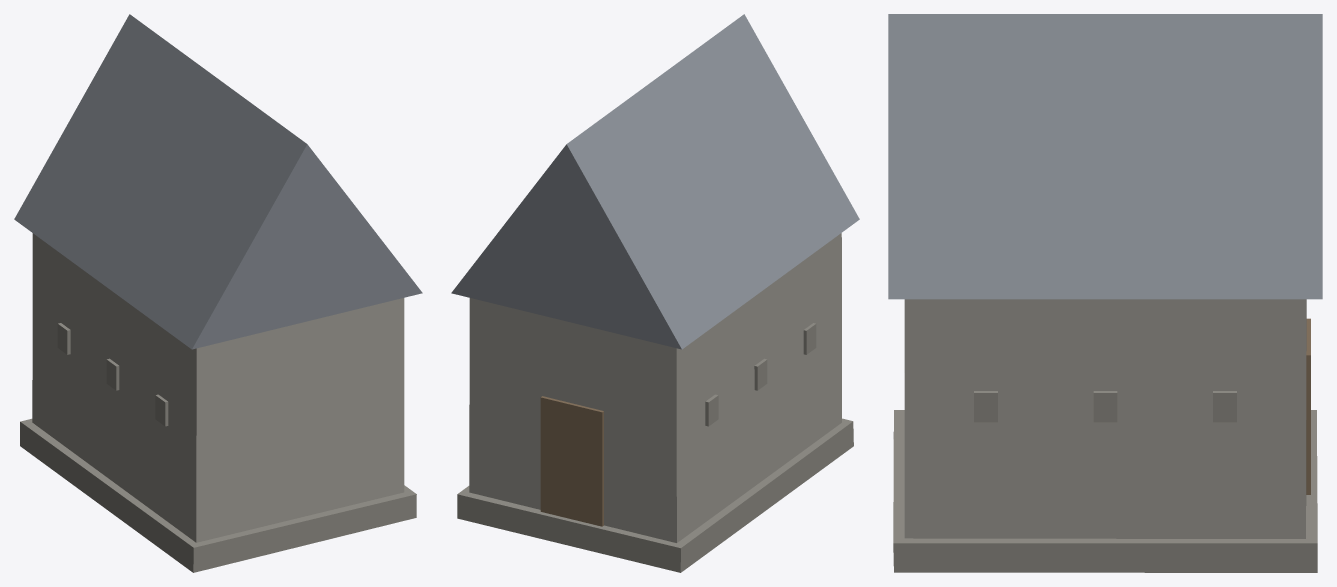
The model's file is shrine_hall.glb.
3 renders of one model, left to right at view 1: azimuth 30°, elevation 25°; view 2: azimuth 150°, elevation 25°; view 3: azimuth 270°, elevation 25°, orthographic. The views are drawn at different scales.
Parts seen in each view (by area): view 1: shrine_hall; view 2: shrine_hall; view 3: shrine_hall.
Boxes of the visible parts, left/top/right/bottom form: shrine_hall: left=14, top=14, right=422, bottom=572; shrine_hall: left=451, top=14, right=859, bottom=572; shrine_hall: left=888, top=14, right=1322, bottom=572.
Size of the model in its own units: 3 by 5 by 4.
